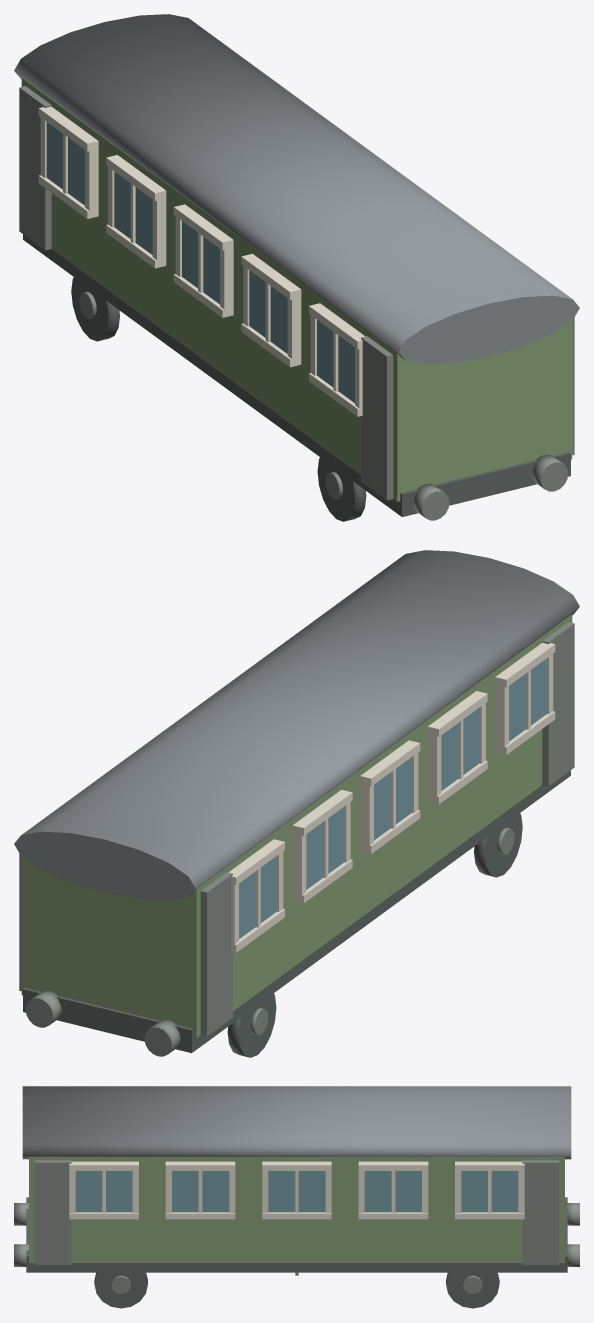
File: rhine-mail_lod0.glb
3 renders of one model, top to bottom at view 1: azimuth 30°, elevation 25°; view 2: azimuth 150°, elevation 25°; view 3: azimuth 270°, elevation 25°, orthographic. The views are drawn at different scales.
Parts seen in each view (by area): view 1: RF_CoachRoof, RF_CoachBody, RF_Chassis, RF_RoofLowerMask, RF_CarDoor.001, RF_CarDoor.002, RF_Window.004, RF_Window.002, RF_Window.005, RF_Window.001, RF_Window.003, RF_Wheel.001 (+15 smaller); view 2: RF_CoachRoof, RF_CoachBody, RF_Chassis, RF_CarDoor.002, RF_CarDoor.001, RF_RoofLowerMask, RF_Window.002, RF_Window.004, RF_Window.001, RF_Window.005, RF_Window.003, RF_Wheel.003 (+13 smaller); view 3: RF_CoachRoof, RF_CoachBody, RF_Chassis, RF_RoofLowerMask, RF_CarDoor.003, RF_CarDoor, RF_Window.008, RF_Window.007, RF_Window.009, RF_Window.006, RF_Window, RF_Wheel.002 (+17 smaller).
Boxes of the visible parts, box(x1,y1,x2,y2) form: RF_CoachRoof: box(14, 14, 579, 364); RF_CoachBody: box(21, 78, 572, 501); RF_Chassis: box(23, 234, 570, 517); RF_RoofLowerMask: box(21, 79, 572, 435); RF_CarDoor.001: box(361, 336, 393, 500); RF_CarDoor.002: box(19, 86, 51, 250); RF_Window.004: box(114, 171, 152, 254); RF_Window.002: box(249, 270, 287, 353); RF_Window.005: box(46, 122, 84, 205); RF_Window.001: box(317, 320, 354, 402); RF_Window.003: box(182, 221, 219, 304); RF_Wheel.001: box(317, 457, 366, 521); RF_CoachRoof: box(14, 550, 579, 900); RF_CoachBody: box(21, 614, 572, 1037); RF_Chassis: box(23, 770, 570, 1053); RF_CarDoor.002: box(200, 872, 232, 1036); RF_CarDoor.001: box(542, 622, 574, 786); RF_RoofLowerMask: box(22, 615, 571, 972); RF_Window.002: box(441, 707, 479, 790); RF_Window.004: box(306, 806, 344, 889); RF_Window.001: box(509, 658, 547, 741); RF_Window.005: box(239, 856, 276, 938); RF_Window.003: box(374, 757, 411, 840); RF_Wheel.003: box(227, 993, 276, 1057); RF_CoachRoof: box(22, 1086, 571, 1159); RF_CoachBody: box(29, 1156, 564, 1262); RF_Chassis: box(26, 1197, 567, 1272); RF_RoofLowerMask: box(29, 1156, 564, 1216); RF_CarDoor.003: box(34, 1160, 71, 1265); RF_CarDoor: box(522, 1160, 559, 1265); RF_Window.008: box(268, 1171, 325, 1212); RF_Window.007: box(172, 1171, 229, 1212); RF_Window.009: box(364, 1171, 421, 1212); RF_Window.006: box(75, 1171, 132, 1212); RF_Window: box(461, 1171, 518, 1212); RF_Wheel.002: box(94, 1272, 147, 1308).
Bounding box in the file's own units: 3.16 × 3.76 × 10.98.
